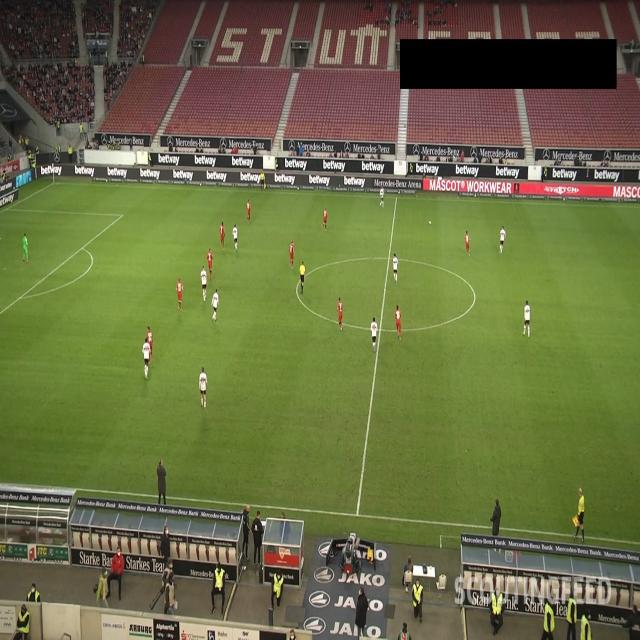ball: (428, 220, 432, 226)
